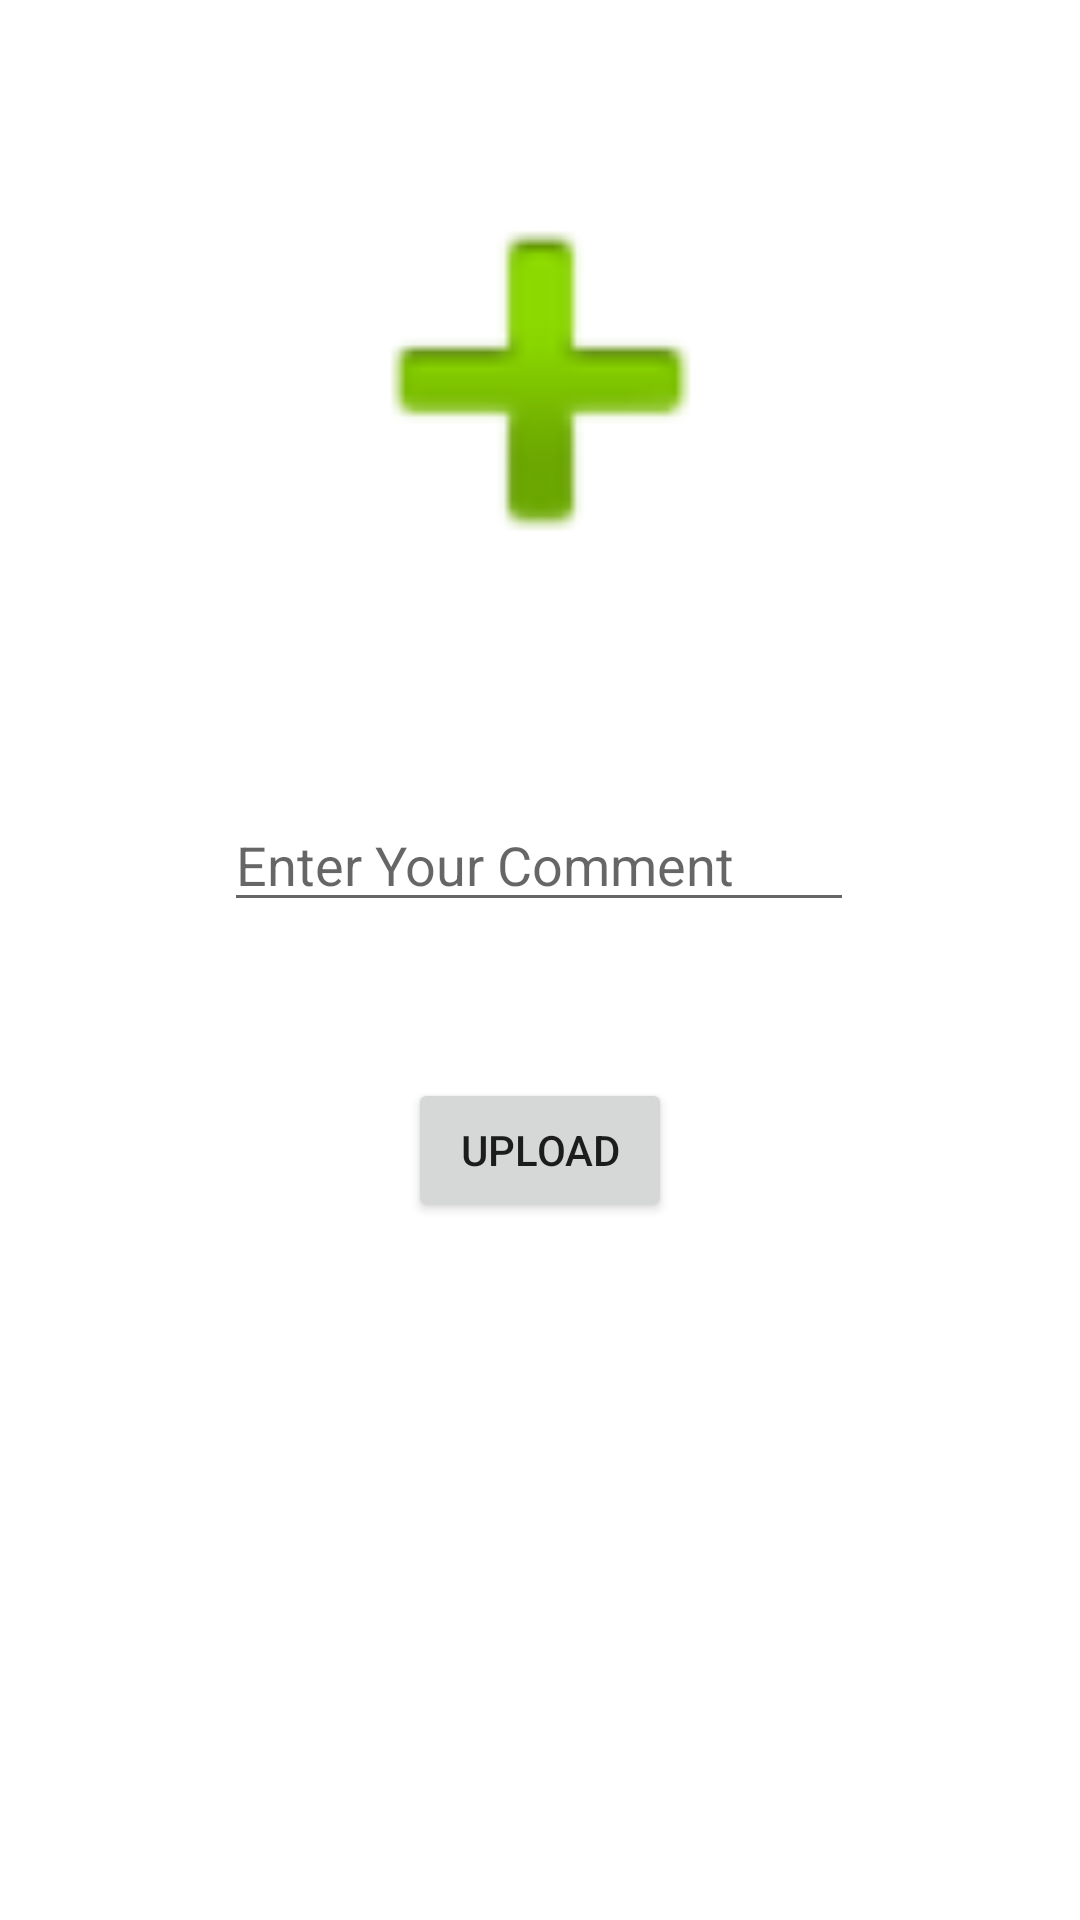

Point at icon controls on the screen. Image size 1080px×1920px, points as (x=x, y=y).
add: (x=540, y=380)
